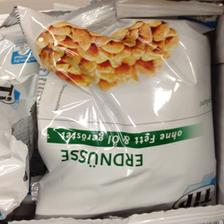Nuss: (14, 4, 222, 216)
